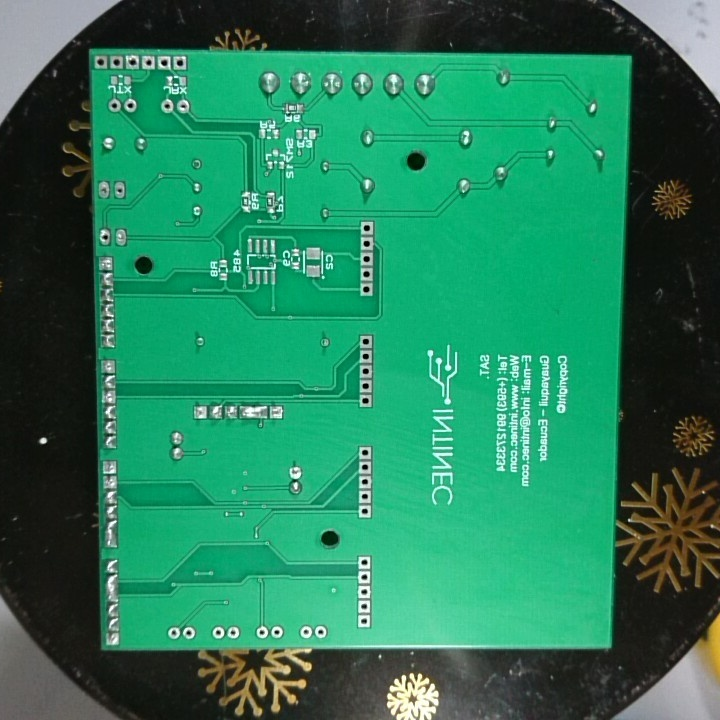F: (225, 623, 244, 643), (124, 53, 141, 75), (98, 224, 113, 248), (181, 626, 201, 643), (112, 180, 127, 202), (96, 179, 113, 198), (99, 357, 118, 374), (141, 53, 157, 73), (93, 54, 110, 72), (155, 55, 173, 72), (359, 219, 377, 236), (160, 96, 176, 115), (269, 402, 285, 421), (114, 226, 128, 247), (107, 97, 123, 115), (356, 614, 372, 632), (211, 623, 225, 643), (174, 53, 187, 74), (267, 624, 284, 640), (359, 264, 376, 280), (361, 249, 377, 266), (103, 471, 118, 489), (299, 623, 312, 643), (105, 629, 121, 645), (255, 625, 270, 642), (358, 503, 373, 520), (102, 460, 119, 474), (313, 624, 327, 641), (193, 405, 207, 422), (359, 378, 373, 395), (190, 157, 204, 174), (123, 97, 136, 115), (176, 95, 187, 116), (102, 386, 117, 401), (359, 363, 374, 378), (356, 598, 370, 614), (287, 464, 301, 480), (359, 393, 373, 409), (98, 257, 116, 269), (359, 490, 373, 505), (359, 349, 374, 363), (361, 282, 375, 297), (319, 335, 330, 354), (357, 570, 373, 583), (359, 473, 372, 489), (358, 443, 371, 459), (361, 237, 377, 250), (167, 626, 181, 640), (359, 335, 374, 348), (110, 57, 124, 70), (356, 555, 371, 567), (359, 459, 372, 472), (356, 585, 368, 599)
P: (237, 403, 267, 423), (102, 520, 119, 550), (104, 574, 123, 599)
